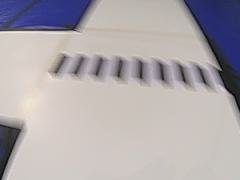CrossWalk: (42, 48, 237, 95)
